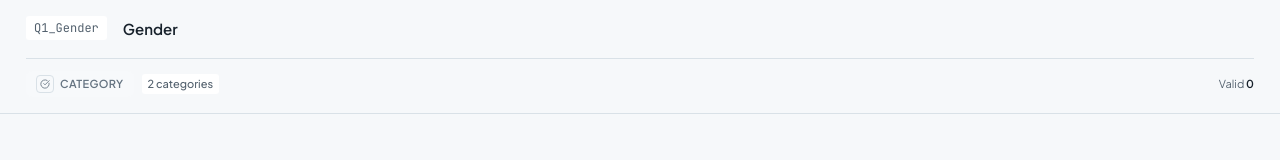
Scenario: InspectorHeader › enters name edit mode when variable name code is clicked
Click the button "Q1_Gender" at [66, 29], box x1=26 y1=16 x2=107 y2=42
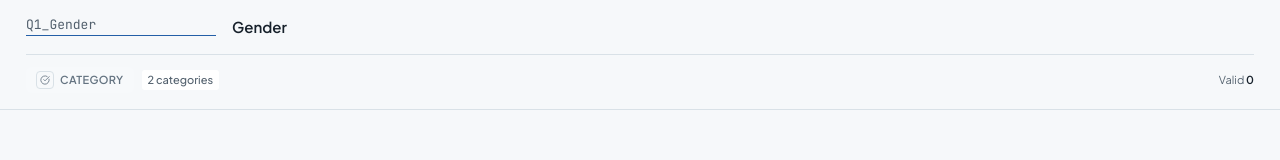
Expected: the field is shown, x1=26 y1=16 x2=216 y2=36
